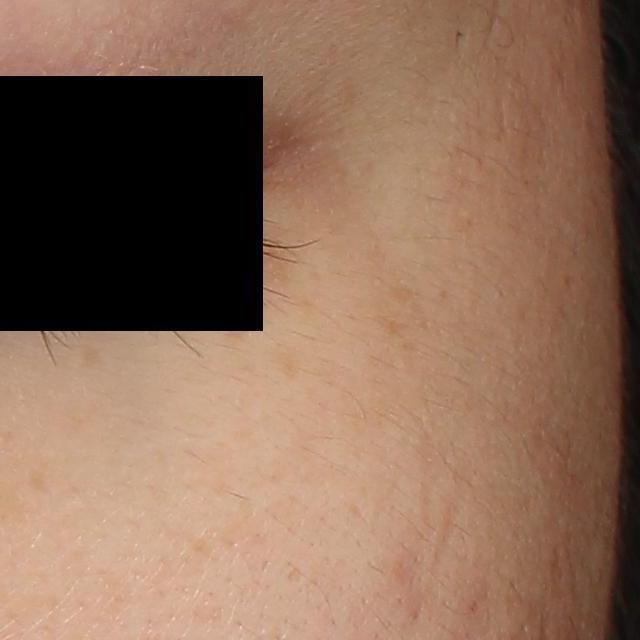melasma: (265, 342, 305, 380), (78, 342, 108, 370)
